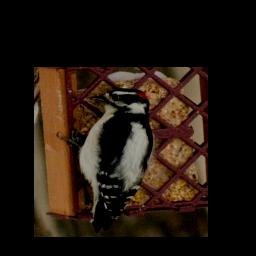Woodpecker: (57, 88, 153, 232)
